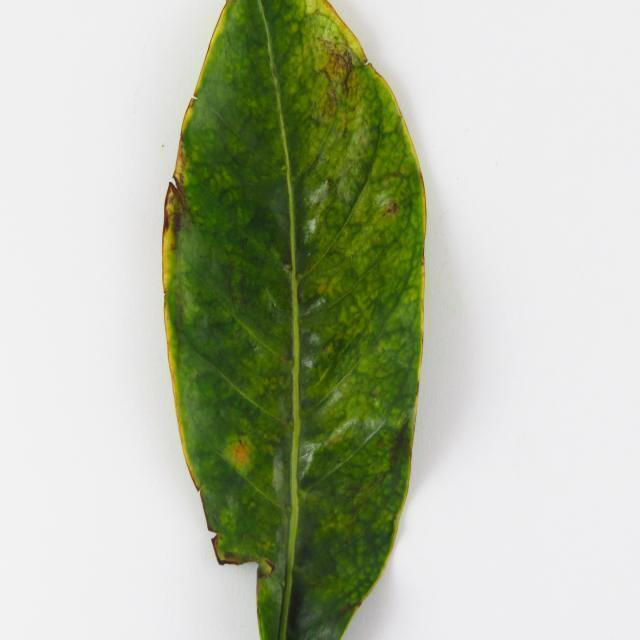DeficienciaNutricional-Manganeso: (162, 2, 425, 638)
